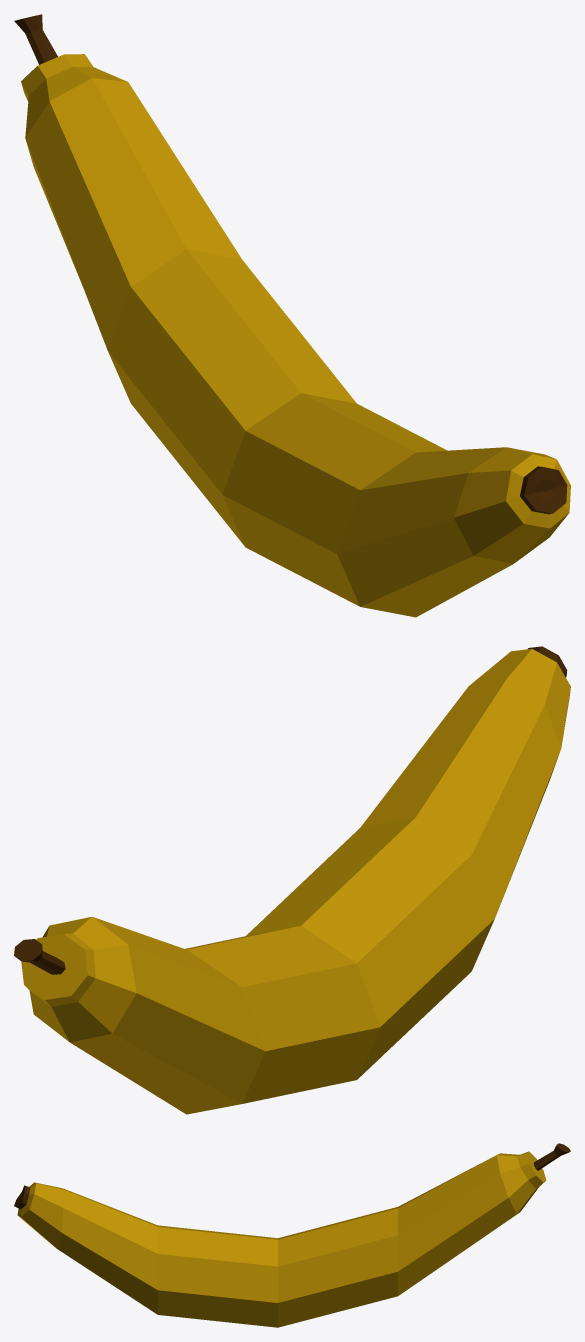
File: Low Poly Banana (1).fbx
3 views of the same model, one above another, from view 1: azimuth 30°, elevation 25°; view 2: azimuth 150°, elevation 25°; view 3: azimuth 270°, elevation 25° (orthographic). The views are drawn at different scales.
Visible parts, largest first — view 1: pCylinder1; view 2: pCylinder1; view 3: pCylinder1.
Part boxes in pixels (x1,y1,x2,y2): pCylinder1: (14, 14, 570, 617); pCylinder1: (14, 646, 570, 1114); pCylinder1: (14, 1143, 570, 1327).
Bounding box in the file's own units: 1.02 × 2.14 × 5.95.
